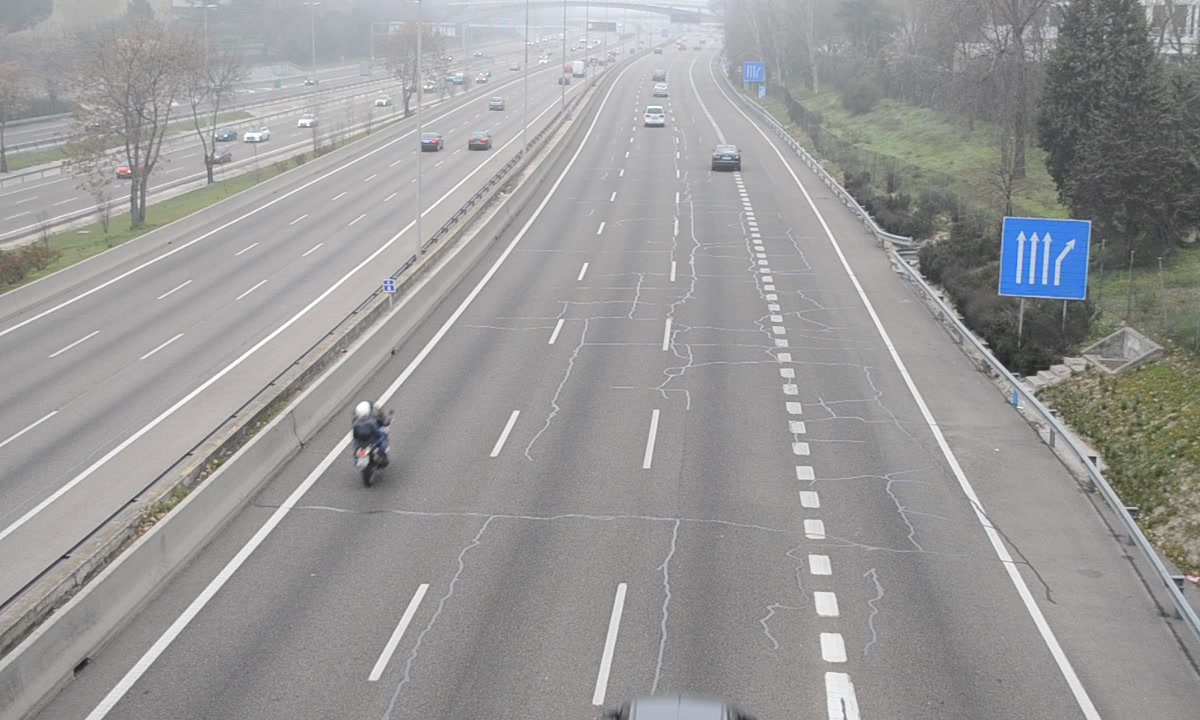car: (710, 143, 741, 172), (643, 106, 667, 129)
motorcycle: (350, 400, 389, 487)
